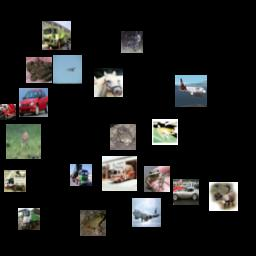airplane: (175, 75, 207, 107), (53, 55, 82, 84), (132, 198, 161, 227)
automobile: (19, 88, 48, 117), (173, 179, 199, 205), (0, 104, 16, 120)
cat: (121, 31, 143, 53)
deer: (6, 124, 41, 159), (209, 182, 238, 211)
frog: (110, 124, 136, 150), (152, 119, 178, 145), (144, 166, 170, 192), (26, 57, 52, 83), (80, 210, 106, 236)
truck: (102, 156, 137, 191), (42, 21, 71, 50), (70, 164, 92, 186), (4, 170, 26, 192), (18, 208, 40, 230)
